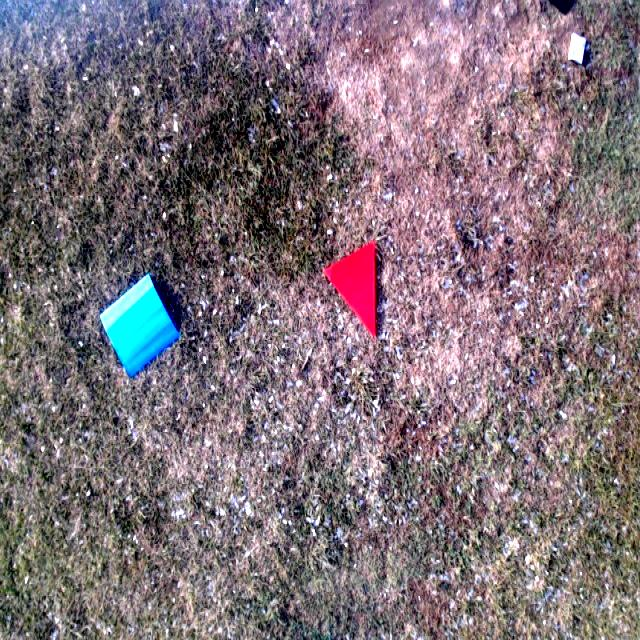blue_square: (96, 270, 178, 382)
red_triangle: (321, 241, 377, 339)
